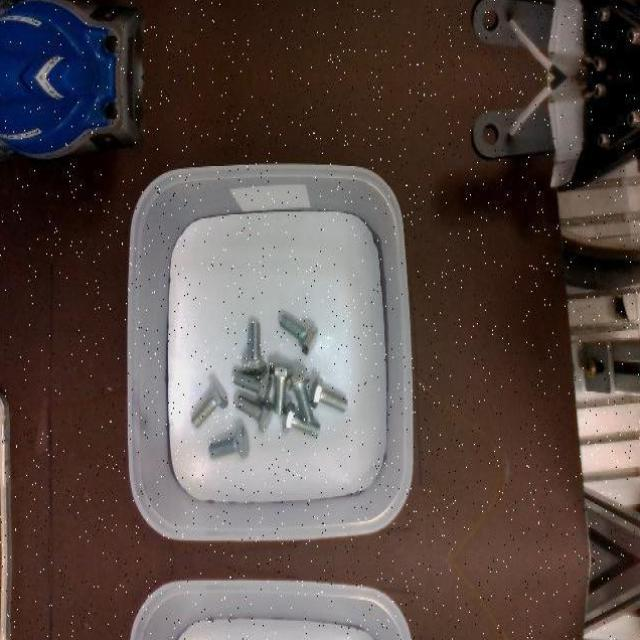screw: (192, 382, 228, 428), (281, 314, 319, 356), (234, 394, 274, 432), (287, 371, 315, 425), (233, 368, 274, 403), (210, 426, 253, 459), (311, 377, 348, 412), (244, 321, 268, 373), (270, 361, 293, 414)
